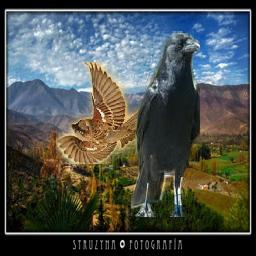Crow: (132, 31, 201, 217)
Sparrow: (57, 62, 148, 164)
